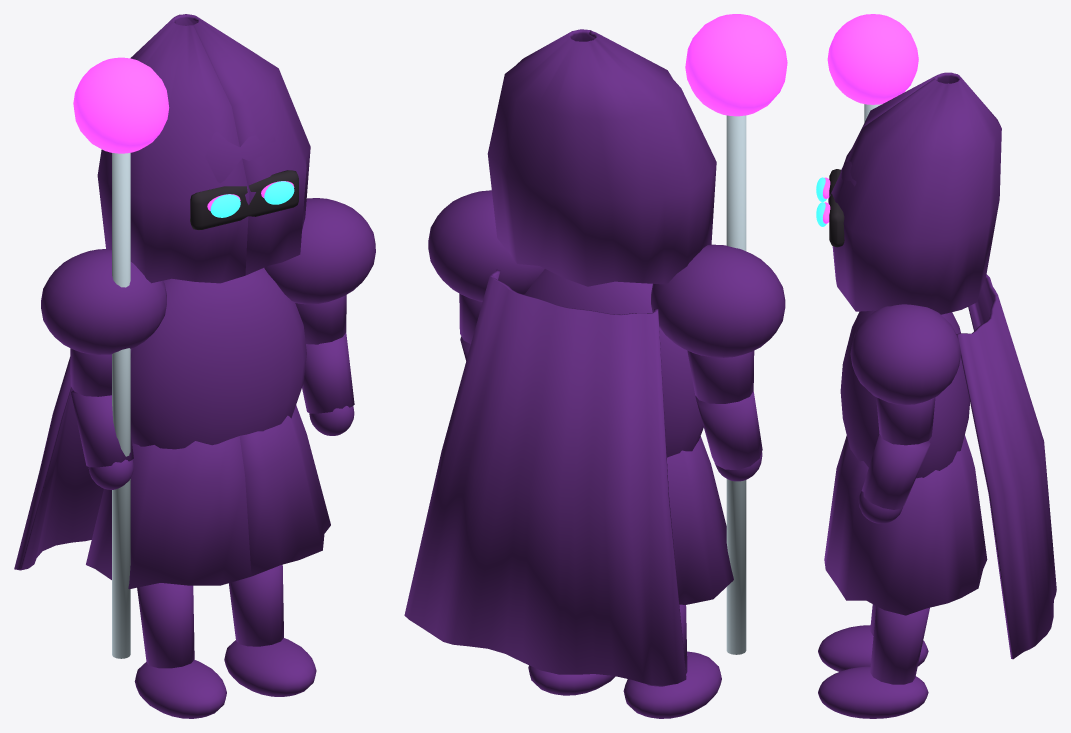
File: enemy-5-refined-v15.fbx
The picture shows the model from 3 angles, left to right: view 1: azimuth 30°, elevation 25°; view 2: azimuth 150°, elevation 25°; view 3: azimuth 270°, elevation 25°; orthographic projection. The views are drawn at different scales.
Parts seen in each view (by area): view 1: SpectralHood, Tabard.003, ArmoredTorso.003, Shoulder.008, TatteredCape.003, MageStaff, Shoulder.009, StaffOrb, Shin.008, Foot.011, Foot.010, Shin.009 (+8 smaller); view 2: TatteredCape.003, SpectralHood, Shoulder.008, StaffOrb, Tabard.003, ArmoredTorso.003, Shoulder.009, MageStaff, Foot.010, Forearm.010, UpperArm.008, Foot.011 (+1 smaller); view 3: SpectralHood, TatteredCape.003, Tabard.003, Shoulder.009, StaffOrb, ArmoredTorso.003, Foot.011, Shin.009, Forearm.011, UpperArm.009, Foot.010, FaceVisor.003 (+1 smaller).
Boxes of the visible parts, left/top/right/bottom form: SpectralHood: left=97, top=14, right=310, bottom=283; Tabard.003: left=86, top=405, right=330, bottom=589; ArmoredTorso.003: left=130, top=268, right=306, bottom=449; Shoulder.008: left=41, top=249, right=166, bottom=354; TatteredCape.003: left=14, top=357, right=103, bottom=570; MageStaff: left=112, top=153, right=130, bottom=658; Shoulder.009: left=264, top=198, right=375, bottom=304; StaffOrb: left=73, top=57, right=169, bottom=153; Shin.008: left=137, top=583, right=194, bottom=668; Foot.011: left=224, top=638, right=316, bottom=696; Foot.010: left=134, top=660, right=226, bottom=718; Shin.009: left=229, top=564, right=283, bottom=646; TatteredCape.003: left=404, top=269, right=686, bottom=685; SpectralHood: left=487, top=29, right=716, bottom=286; Shoulder.008: left=651, top=244, right=785, bottom=357; StaffOrb: left=685, top=14, right=787, bottom=116; Tabard.003: left=667, top=436, right=733, bottom=604; ArmoredTorso.003: left=524, top=269, right=703, bottom=457; Shoulder.009: left=428, top=190, right=544, bottom=301; MageStaff: left=726, top=115, right=746, bottom=654; Foot.010: left=623, top=651, right=721, bottom=718; Forearm.010: left=695, top=391, right=762, bottom=469; UpperArm.008: left=687, top=350, right=754, bottom=403; Foot.011: left=528, top=665, right=615, bottom=695; SpectralHood: left=828, top=72, right=1001, bottom=314; TatteredCape.003: left=956, top=274, right=1056, bottom=659; Tabard.003: left=824, top=435, right=987, bottom=615; Shoulder.009: left=850, top=304, right=961, bottom=404; StaffOrb: left=827, top=14, right=918, bottom=104; ArmoredTorso.003: left=840, top=310, right=969, bottom=478; Foot.011: left=818, top=666, right=928, bottom=718; Shin.009: left=870, top=606, right=929, bottom=684; Forearm.011: left=861, top=434, right=930, bottom=509; UpperArm.009: left=876, top=397, right=935, bottom=445; Foot.010: left=818, top=625, right=928, bottom=671; FaceVisor.003: left=829, top=169, right=844, bottom=247.
Size of the model in its own units: 108 by 212 by 73.82.
